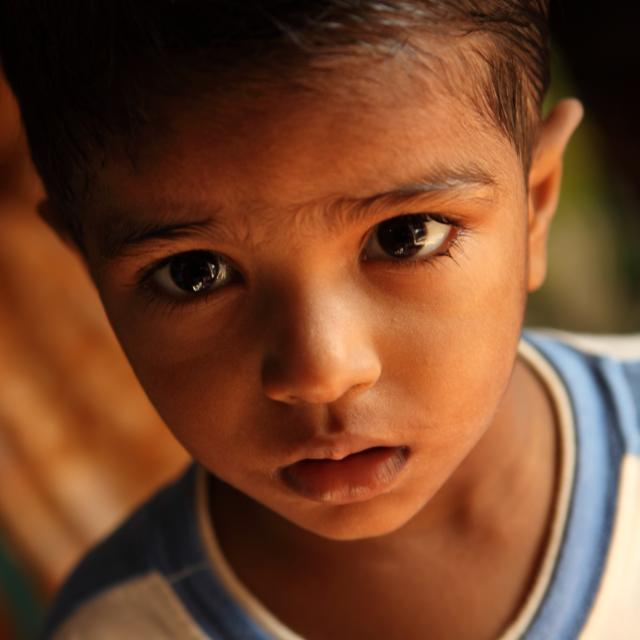Depress: (53, 32, 527, 540)
